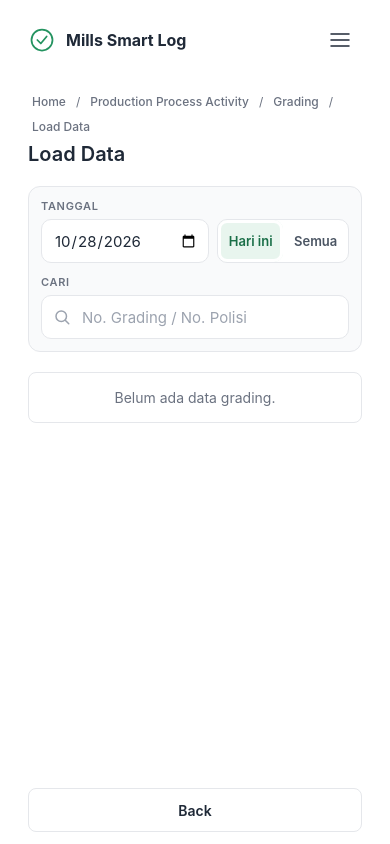
Scenario: DataPreviewGradingView › does not show the Reset Filter button when no filter is active and the list is genuinely empty
Clear the date field with test id "date-filter-input" at (125, 241), box [41, 219, 209, 263]
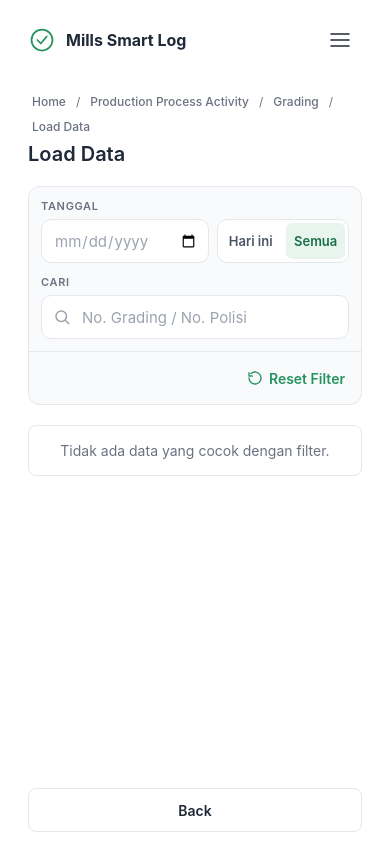
Now the button with test id "reset-filter-button" is shown, box [235, 356, 357, 400]
